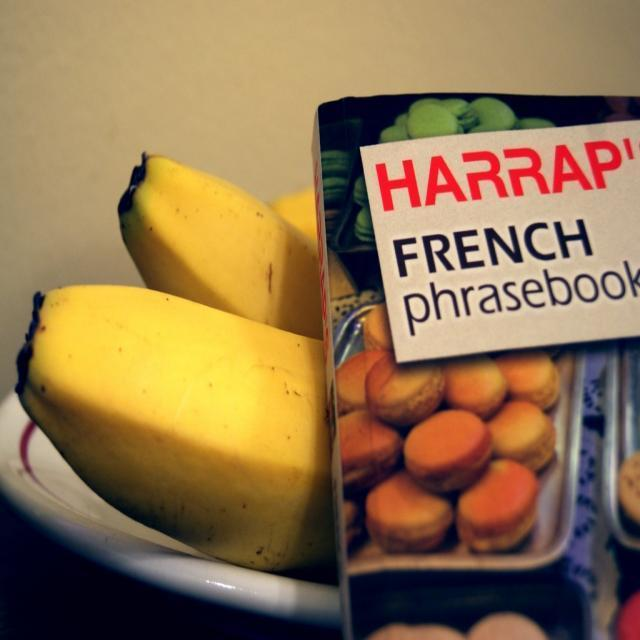Banana: (10, 146, 338, 594)
